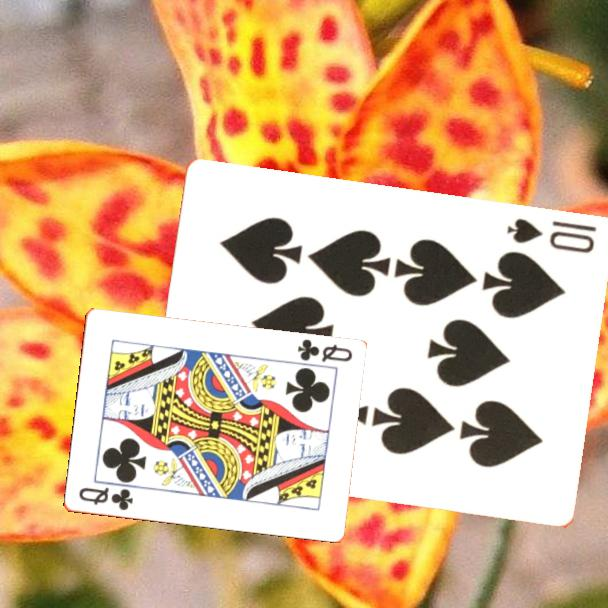c12: (294, 336, 355, 365), (75, 484, 135, 513)
s10: (503, 215, 599, 257)
